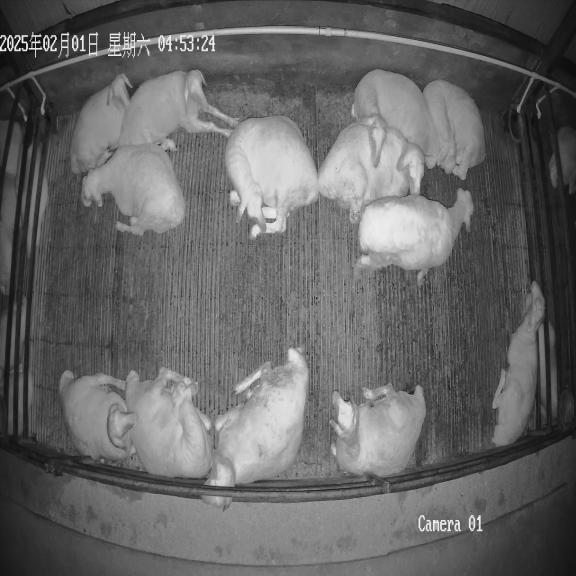lying: (201, 348, 309, 510), (225, 116, 319, 238), (318, 122, 425, 223), (109, 70, 238, 151), (125, 367, 213, 478), (81, 144, 186, 236), (330, 384, 426, 478), (351, 69, 440, 168), (492, 281, 545, 446), (59, 371, 135, 461), (423, 80, 486, 180), (70, 74, 132, 174)
stand: (354, 188, 474, 285)
